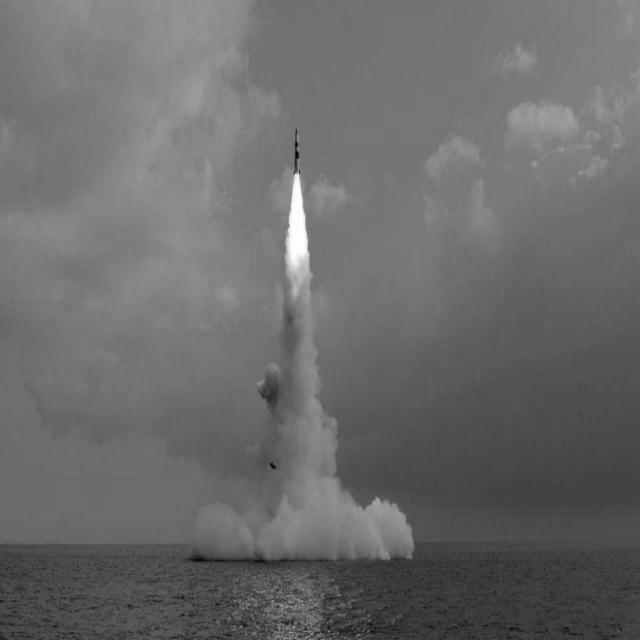missile: (292, 124, 302, 180)
